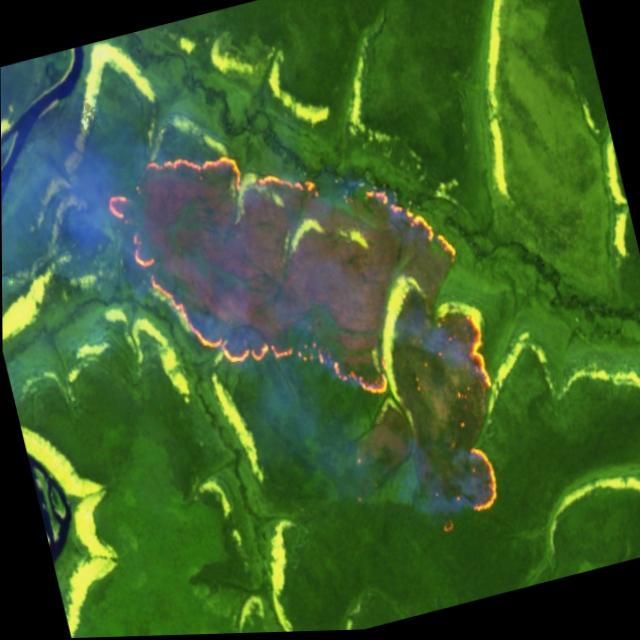fire: (94, 80, 534, 603)
